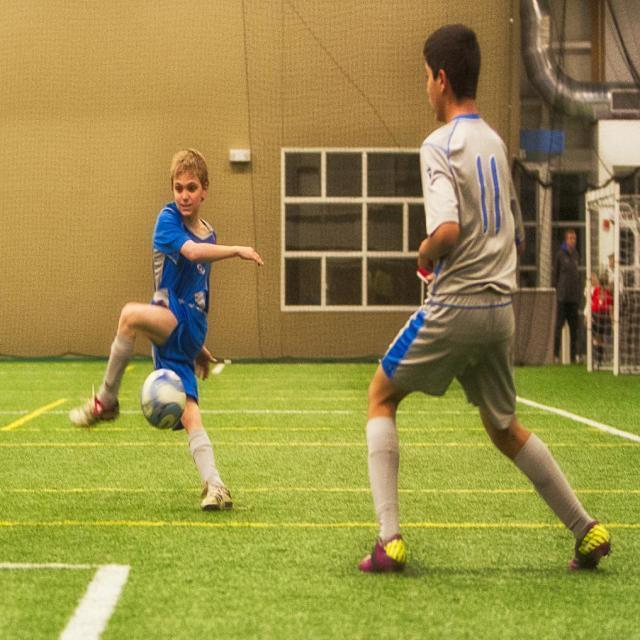football: (131, 363, 205, 447)
